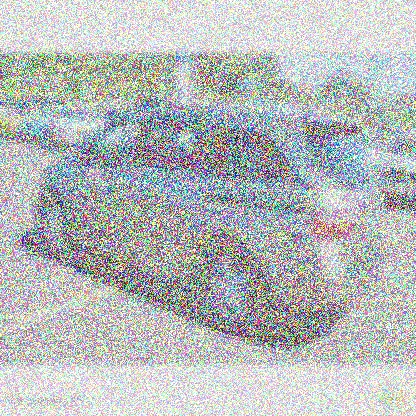Vehicle: (33, 93, 387, 340)
